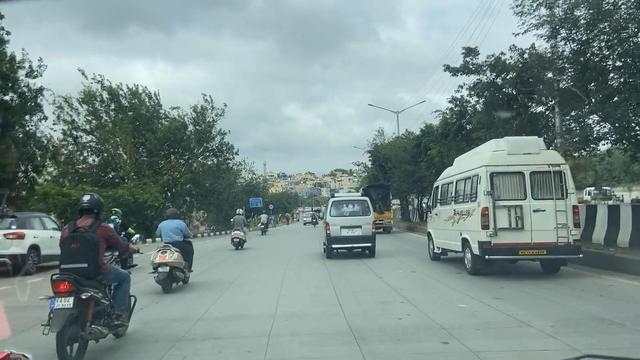HMV: (426, 137, 577, 271)
LMV: (45, 197, 133, 355), (322, 189, 376, 255), (3, 209, 58, 268), (150, 211, 194, 283), (228, 202, 249, 252)
